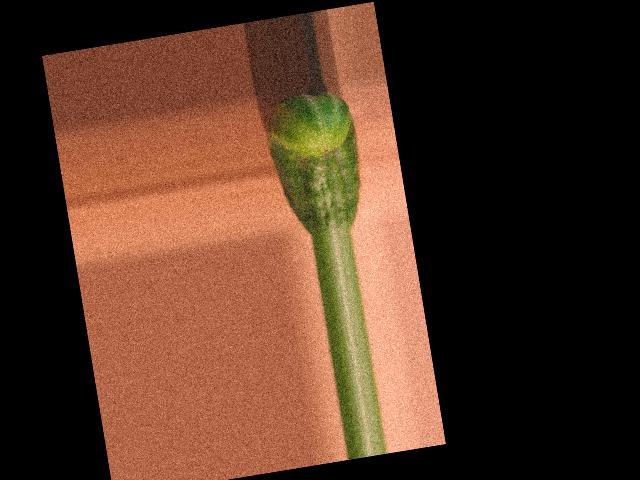cucumber: (262, 87, 371, 239)
